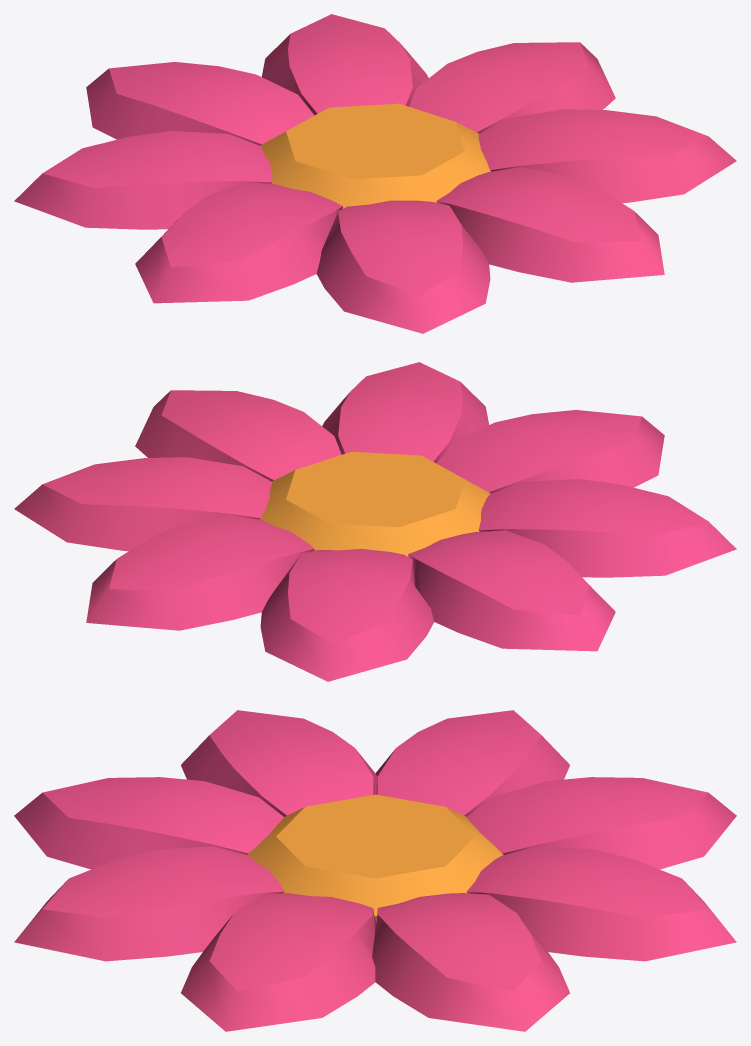
File: Flower_1_F.fbx
3 views of the same model, one above another, from view 1: azimuth 30°, elevation 25°; view 2: azimuth 150°, elevation 25°; view 3: azimuth 270°, elevation 25° (orthographic). The views are drawn at different scales.
Visible parts, largest first — view 1: Flower_1_F; view 2: Flower_1_F; view 3: Flower_1_F.
Part boxes in pixels (x1=…): Flower_1_F: x1=14, y1=14, x2=736, y2=333; Flower_1_F: x1=14, y1=362, x2=736, y2=681; Flower_1_F: x1=14, y1=710, x2=736, y2=1031.
Bounding box in the file's own units: 33.7 × 2.43 × 33.7.
